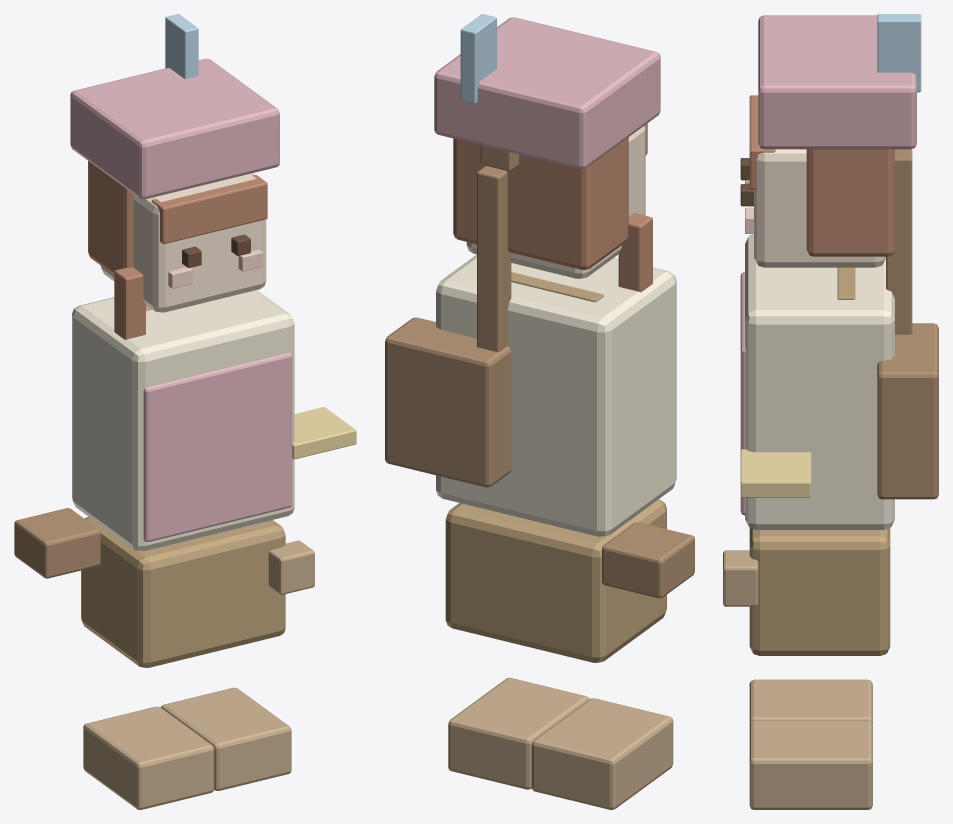
File: wanderer_bard.glb
3 views of the same model, side by side, from view 1: azimuth 30°, elevation 25°; view 2: azimuth 150°, elevation 25°; view 3: azimuth 270°, elevation 25° (orthographic). The views are drawn at different scales.
Parts seen in each view (by area): view 1: Body_torso, Body_jerkin, Body_trousers, Head_hat, Leg_L_boot, Head_skull, Leg_R_boot, Body_drum, Head_bangs, Head_hair, Arm_R_bracelet, Body_pouch (+2 smaller); view 2: Body_torso, Body_trousers, Head_hat, Body_lute_body, Head_hair, Leg_L_boot, Leg_R_boot, Body_lute_neck, Body_drum, Head_skull, Head_feather, Head_braid (+2 smaller); view 3: Body_torso, Head_hat, Body_trousers, Leg_R_boot, Body_lute_body, Head_hair, Head_skull, Leg_L_boot, Body_lute_neck, Arm_R_bracelet, Head_feather, Body_pouch (+3 smaller).
Boxes of the visible parts, x1=… form: Body_torso: x1=72, y1=290, x2=294, y2=551; Body_jerkin: x1=143, y1=352, x2=292, y2=542; Body_trousers: x1=81, y1=516, x2=285, y2=667; Head_hat: x1=70, y1=58, x2=279, y2=199; Leg_L_boot: x1=83, y1=706, x2=213, y2=809; Head_skull: x1=101, y1=173, x2=266, y2=312; Leg_R_boot: x1=161, y1=687, x2=291, y2=790; Body_drum: x1=14, y1=508, x2=100, y2=578; Head_bangs: x1=151, y1=175, x2=267, y2=243; Head_hair: x1=88, y1=161, x2=134, y2=274; Arm_R_bracelet: x1=292, y1=407, x2=356, y2=459; Body_pouch: x1=268, y1=540, x2=314, y2=594; Body_torso: x1=436, y1=254, x2=676, y2=536; Body_trousers: x1=445, y1=499, x2=666, y2=662; Head_hat: x1=434, y1=17, x2=660, y2=169; Body_lute_body: x1=385, y1=317, x2=511, y2=487; Head_hair: x1=453, y1=137, x2=628, y2=269; Leg_L_boot: x1=531, y1=698, x2=673, y2=809; Leg_R_boot: x1=448, y1=677, x2=589, y2=789; Body_lute_neck: x1=477, y1=166, x2=511, y2=351; Body_drum: x1=602, y1=522, x2=694, y2=598; Head_skull: x1=466, y1=125, x2=645, y2=278; Head_feather: x1=460, y1=14, x2=496, y2=103; Head_braid: x1=618, y1=213, x2=652, y2=292; Body_torso: x1=745, y1=234, x2=894, y2=529; Head_hat: x1=758, y1=15, x2=916, y2=149; Body_trousers: x1=749, y1=528, x2=890, y2=655; Leg_R_boot: x1=749, y1=720, x2=872, y2=809; Body_lute_body: x1=877, y1=323, x2=938, y2=499; Head_hair: x1=806, y1=149, x2=894, y2=256; Head_skull: x1=754, y1=149, x2=885, y2=267; Leg_L_boot: x1=749, y1=679, x2=872, y2=724; Body_lute_neck: x1=886, y1=149, x2=912, y2=334; Arm_R_bracelet: x1=740, y1=449, x2=811, y2=497; Head_feather: x1=877, y1=14, x2=921, y2=92; Body_pouch: x1=723, y1=550, x2=758, y2=606.
Size of the model in its own units: 0.77 by 1.94 by 0.49.
